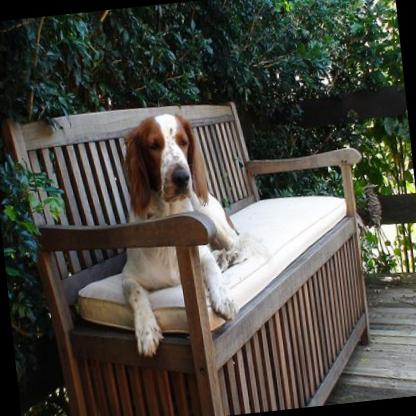Welsh_springer_spaniel: (103, 106, 252, 358)
